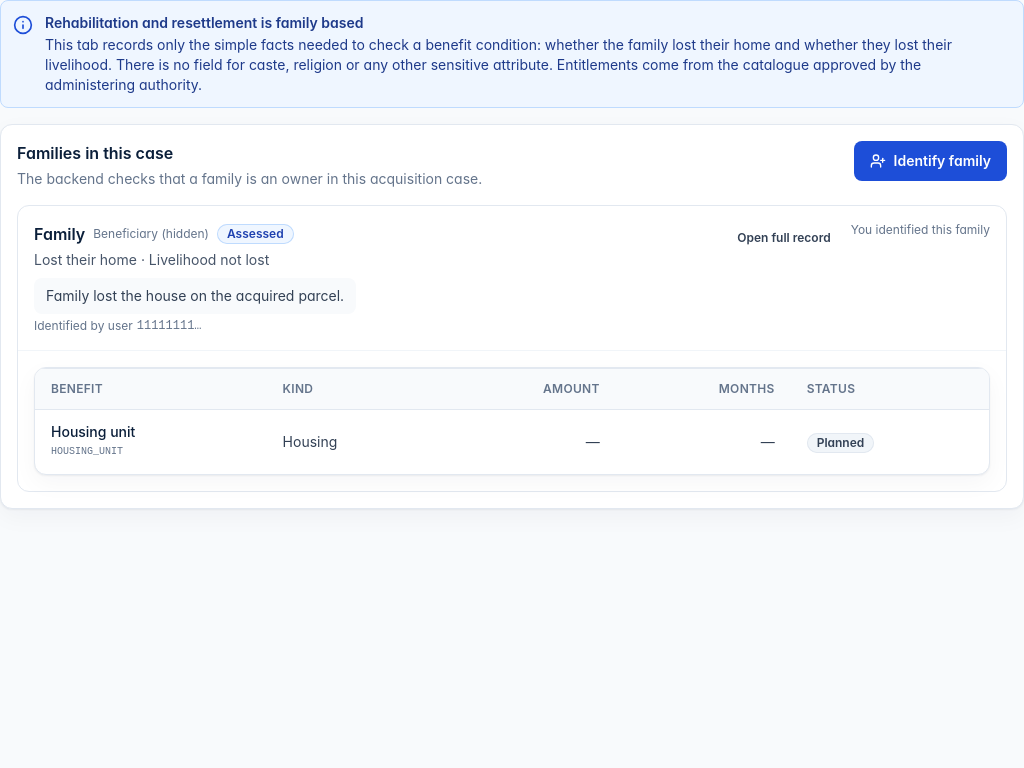
Test: R&R family screen › shows the family status and never asks for a sensitive attribute
Check: the text "Family lost the house on the acquired parcel." is shown, box [34,278,356,314]
Step 1. Click the button "Identify family" → (930, 161), box [854,141,1007,181]
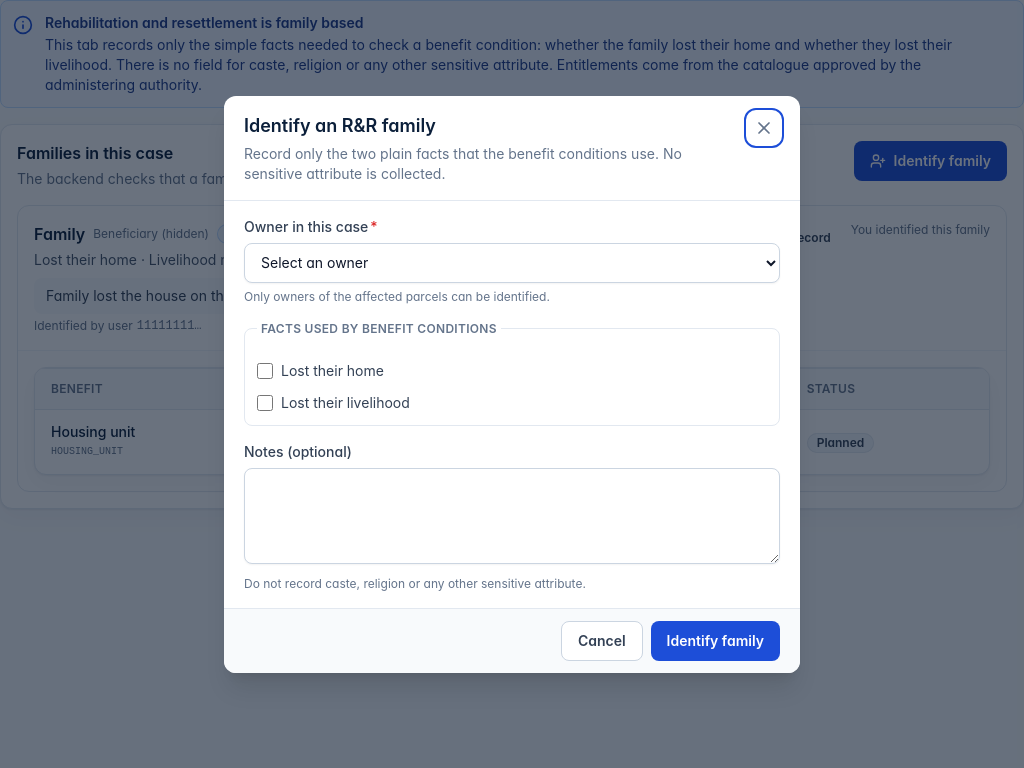
Check: the checkbox labelled "Lost their home" is shown, box [257,362,273,378]
Check: the checkbox labelled "Lost their livelihood" is shown, box [257,394,273,410]
